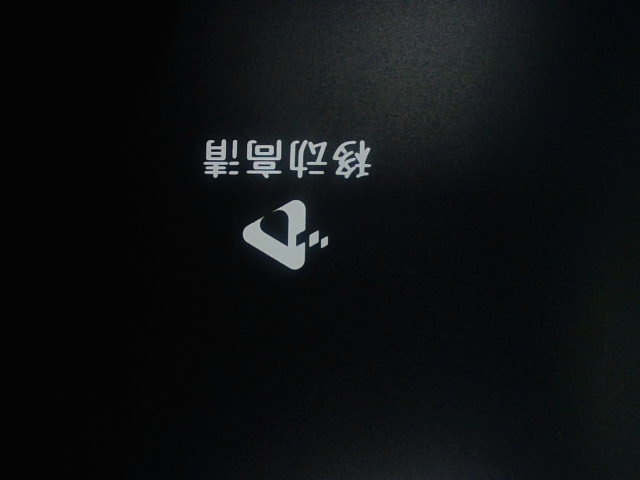AO_MobileHD: (186, 117, 391, 291)
